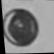correct: (1, 6, 41, 47)
